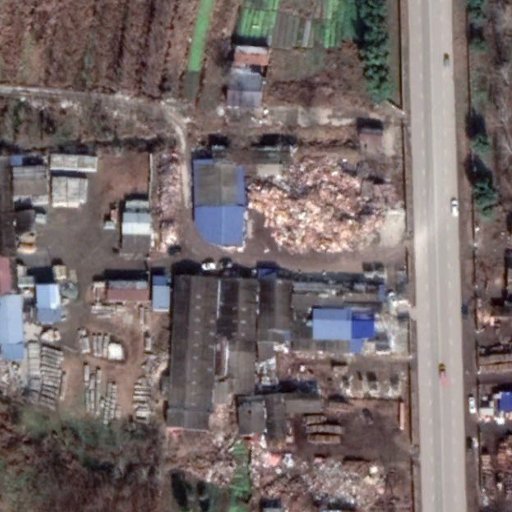msw: (169, 428, 384, 512), (247, 153, 396, 252), (157, 146, 181, 245)
